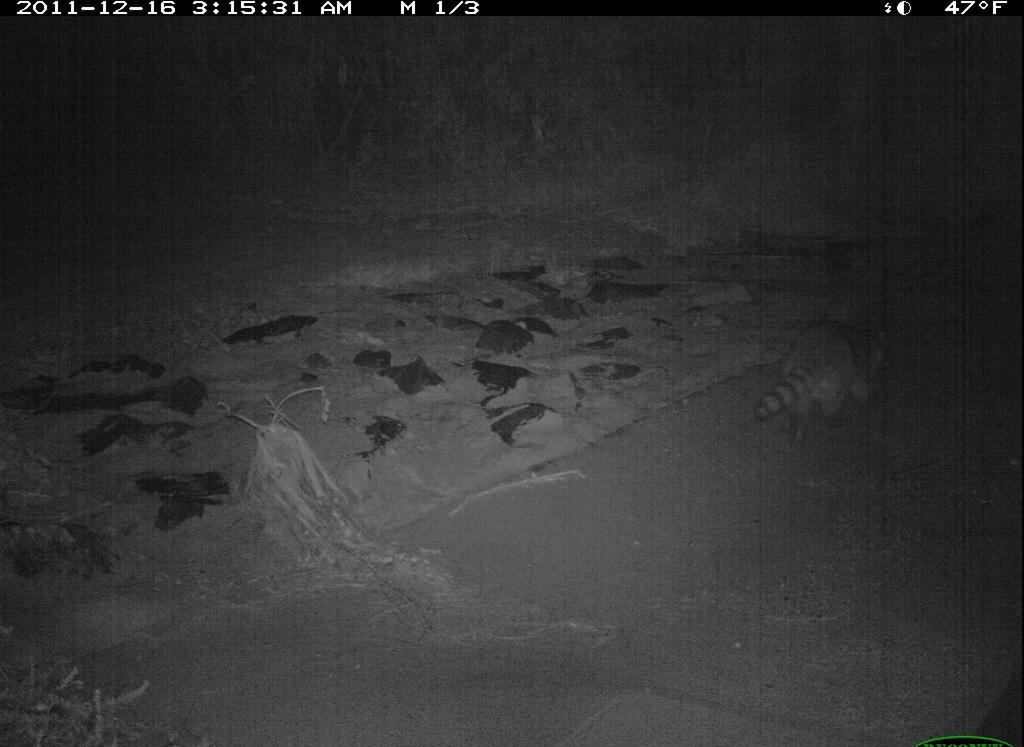raccoon: (742, 297, 905, 456)
